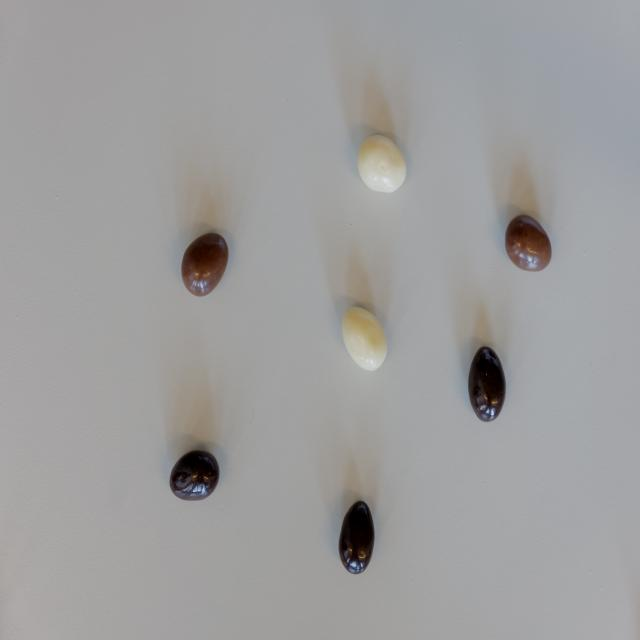Jelly_Black: (468, 347, 508, 423), (338, 502, 376, 576), (170, 450, 220, 500)
Jelly_Milk: (182, 232, 228, 298), (506, 213, 552, 273)
Jelly_White: (343, 304, 388, 374), (358, 136, 408, 194)
